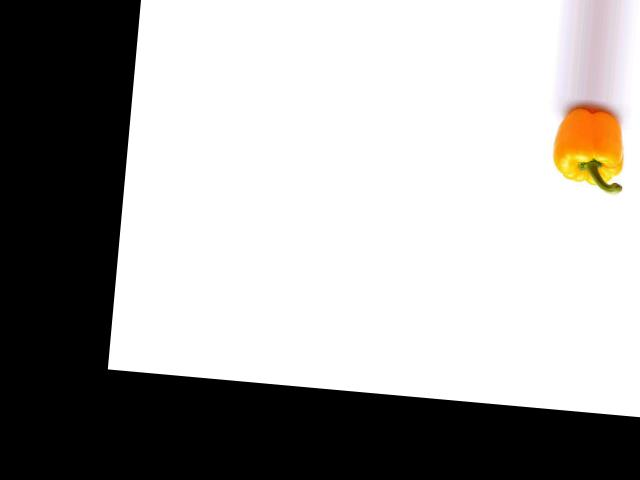bell_pepper: (544, 103, 631, 191)
